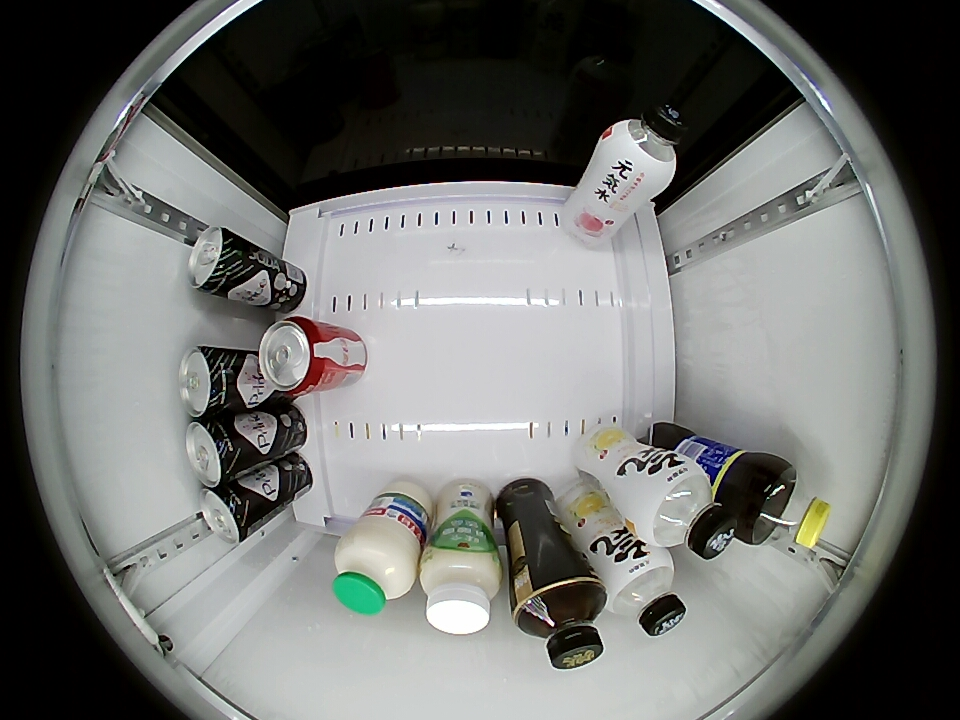baishikele: (748, 465, 832, 550)
kele: (257, 316, 327, 396)
liziyuan: (333, 517, 420, 616)
qingdaowangzi-1: (178, 345, 243, 419), (185, 418, 248, 487), (187, 226, 244, 295), (198, 485, 255, 544)
rancha-1: (513, 575, 607, 670)
yousuanru: (419, 543, 502, 635)
yuanqishui: (628, 458, 737, 560), (597, 100, 687, 193), (598, 546, 687, 636)
